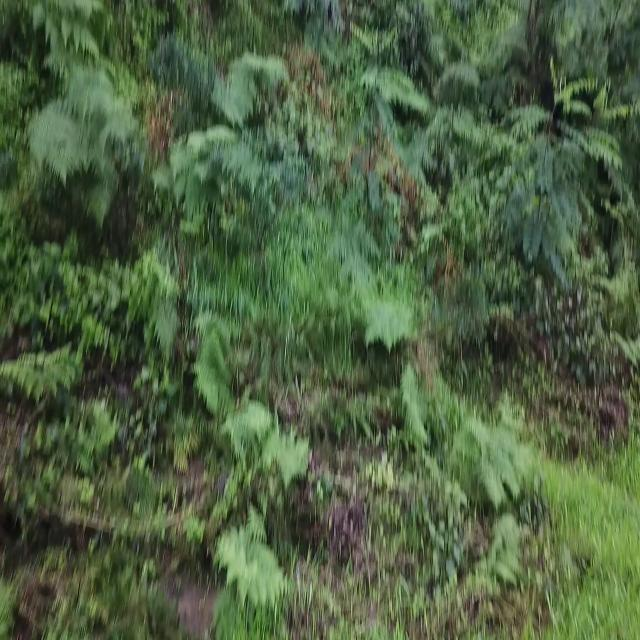Mysore-Thorn-Weed: (493, 86, 591, 270)
